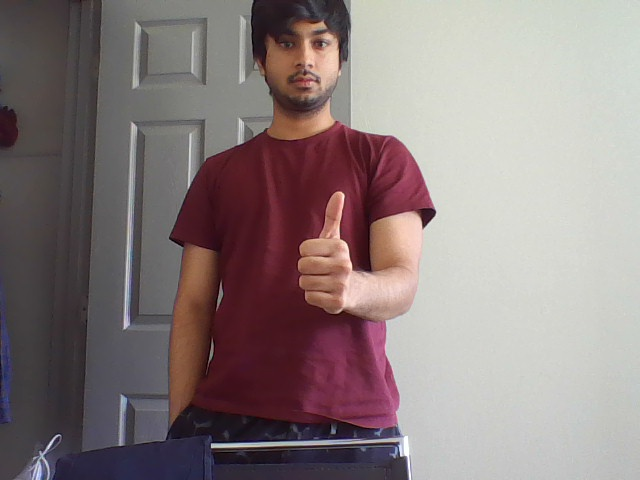confirm: (293, 188, 358, 316)
